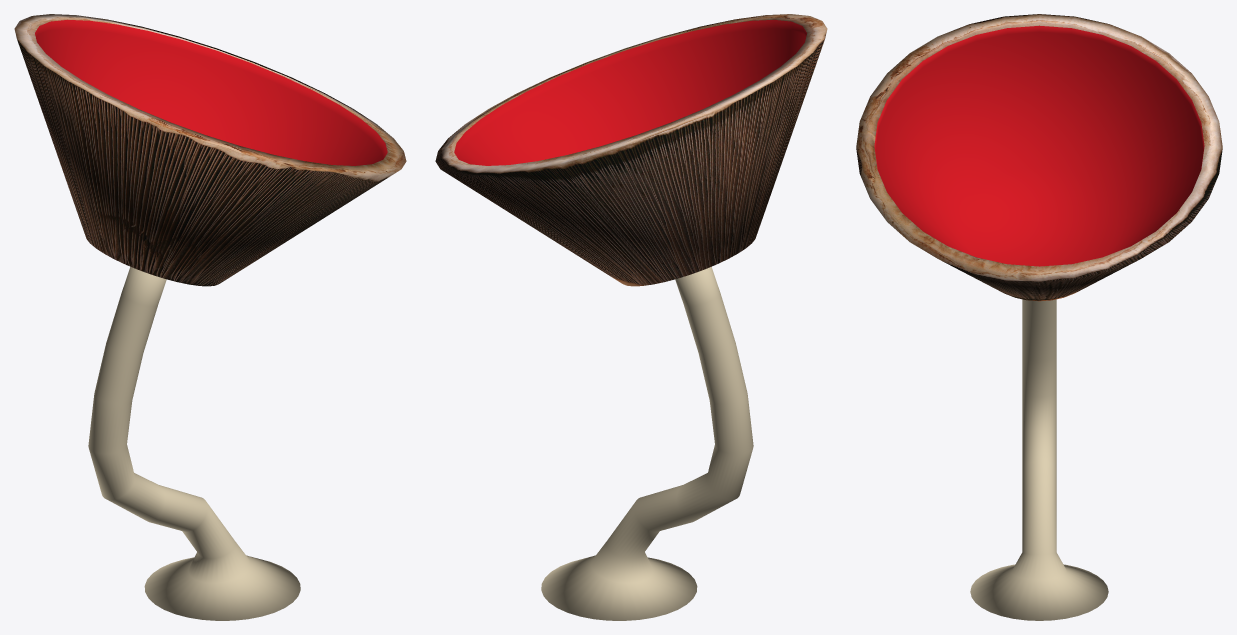
Rendered from champi31.fbx.
3 views of the same model, side by side, from view 1: azimuth 30°, elevation 25°; view 2: azimuth 150°, elevation 25°; view 3: azimuth 270°, elevation 25° (orthographic). The views are drawn at different scales.
Visible parts, largest first — view 1: Cylinder_001; view 2: Cylinder_001; view 3: Cylinder_001.
Boxes of the visible parts, left/top/right/bottom form: Cylinder_001: left=14, top=14, right=406, bottom=620; Cylinder_001: left=435, top=14, right=827, bottom=620; Cylinder_001: left=856, top=14, right=1222, bottom=620.
Bounding box in the file's own units: 98.37 × 160 × 106.
